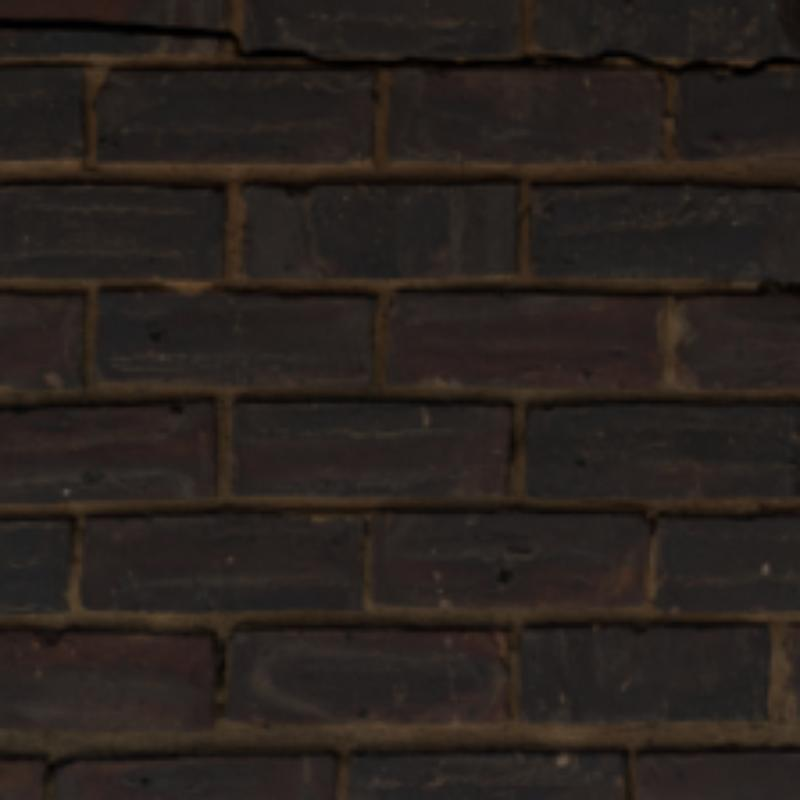pothole: (0, 18, 796, 75)
